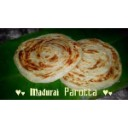parota: (59, 37, 121, 90), (19, 33, 81, 82)
